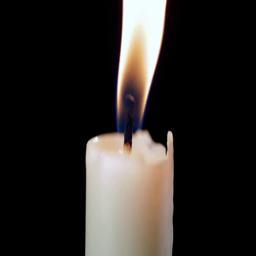fire: (116, 0, 167, 133)
